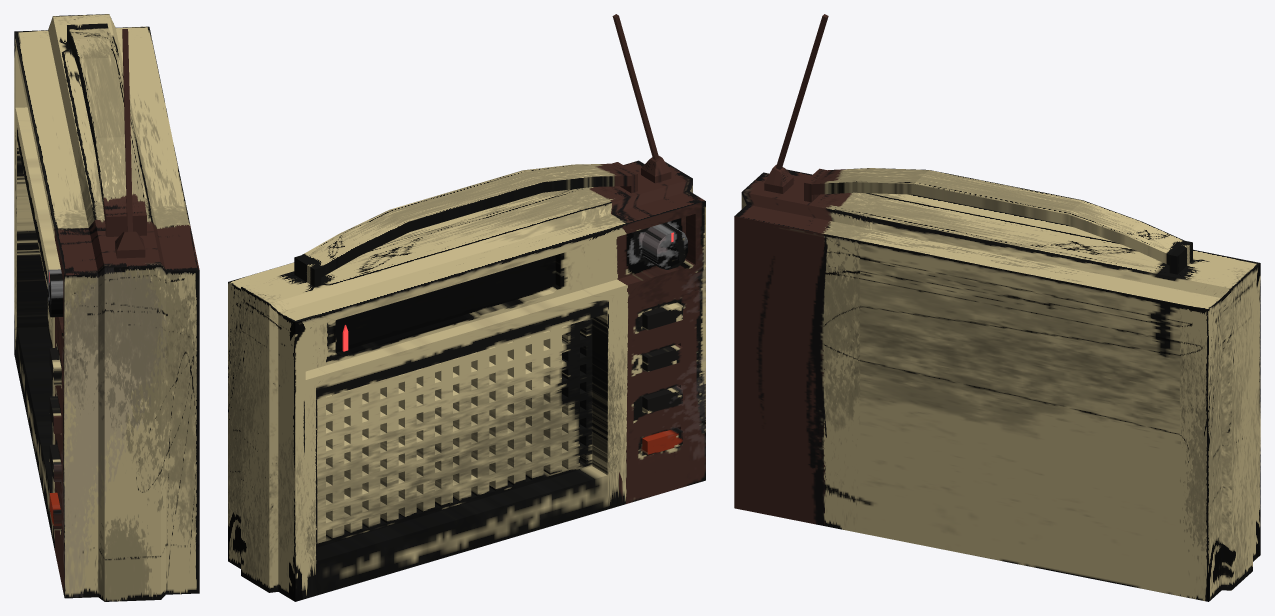
The model's file is radio.gltf.
The picture shows the model from 3 angles, left to right: view 1: azimuth 30°, elevation 25°; view 2: azimuth 150°, elevation 25°; view 3: azimuth 270°, elevation 25°; orthographic projection. The views are drawn at different scales.
Parts seen in each view (by area): view 1: Radio, Wheel; view 2: Radio, Wheel; view 3: Radio.
Boxes of the visible parts, <box> form: Radio: <box>14,14,199,601</box>; Wheel: <box>47,269,63,317</box>; Radio: <box>228,14,705,601</box>; Wheel: <box>642,223,687,269</box>; Radio: <box>734,14,1260,601</box>.
Size of the model in its own units: 4.95 by 7.94 by 7.84.
2 materials, 1 textured.
